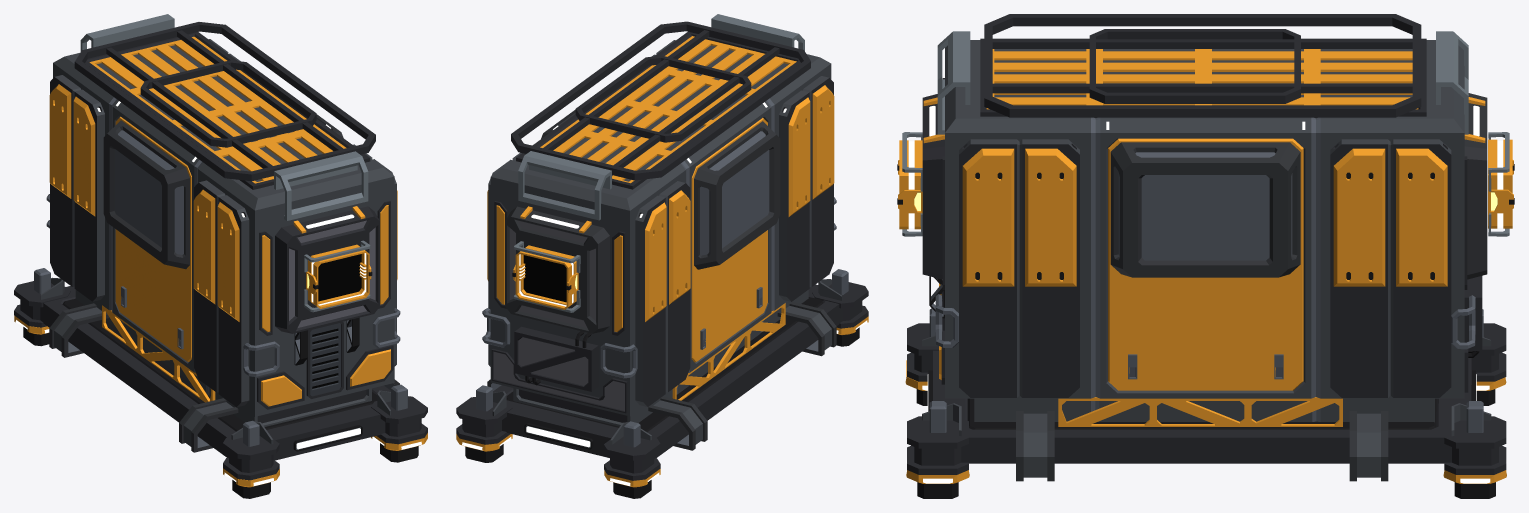
The model's file is SM_Container.glb.
3 renders of one model, left to right at view 1: azimuth 30°, elevation 25°; view 2: azimuth 150°, elevation 25°; view 3: azimuth 270°, elevation 25°, orthographic. The views are drawn at different scales.
Visible parts, largest first — view 1: SM_Container; view 2: SM_Container; view 3: SM_Container.
Part boxes in pixels (box(x1,y1,x2,y2)): SM_Container: box(14, 14, 427, 498); SM_Container: box(456, 14, 868, 498); SM_Container: box(897, 14, 1514, 498).
Size of the model in its own units: 5.06 by 7.08 by 10.2.
3 materials, 1 textured.
